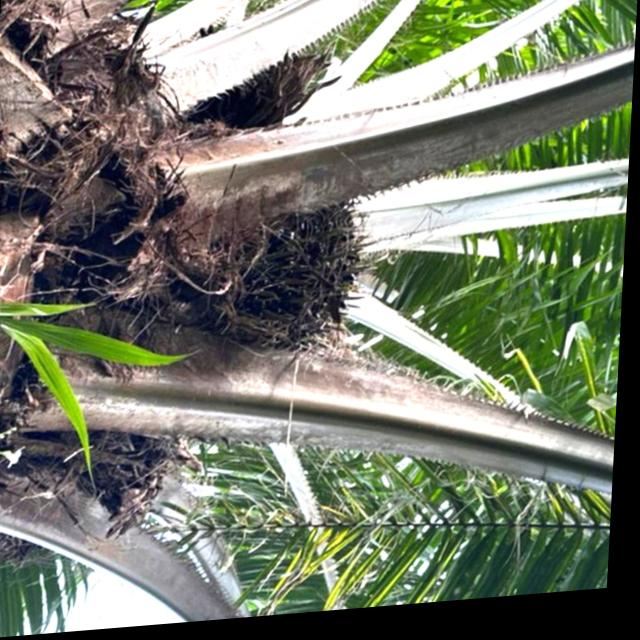unripe: (214, 196, 382, 368)
